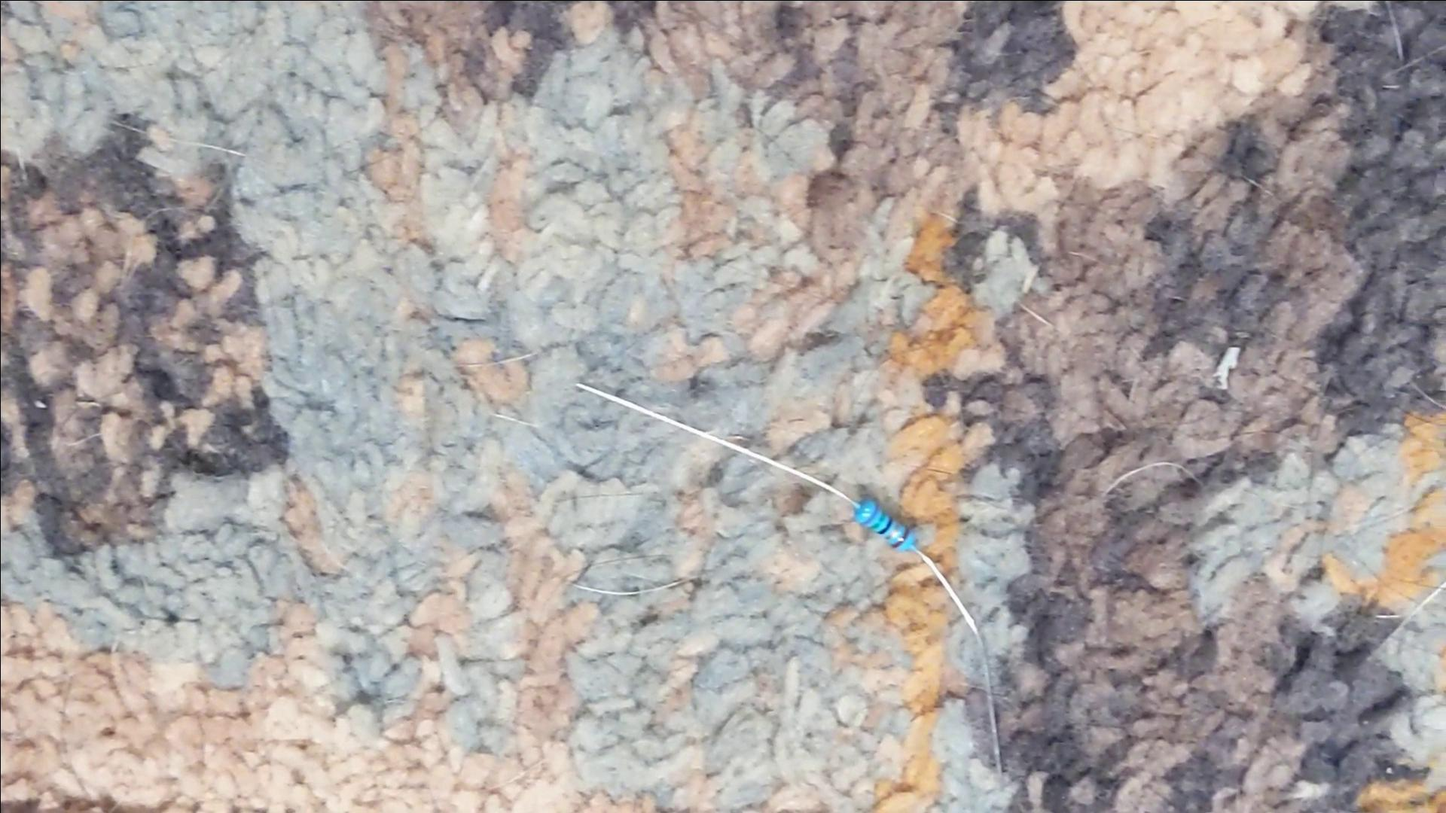resistor: (847, 496, 922, 555)
